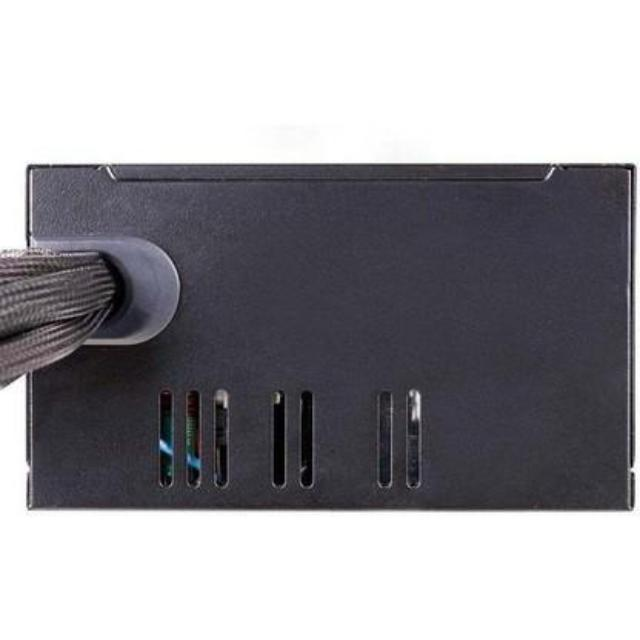PSU: (9, 146, 640, 532)
